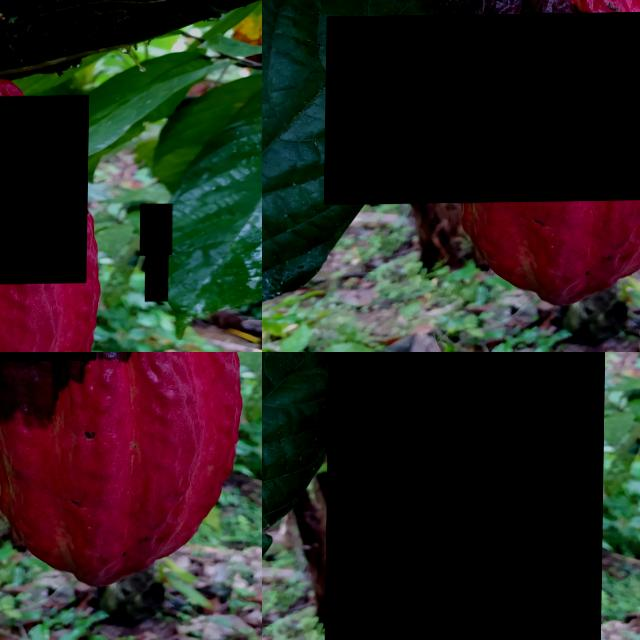Fitoftora: (326, 352, 606, 640), (0, 96, 89, 285), (146, 253, 169, 304)
Monilia: (325, 11, 640, 204)
Sana: (141, 206, 174, 257)
